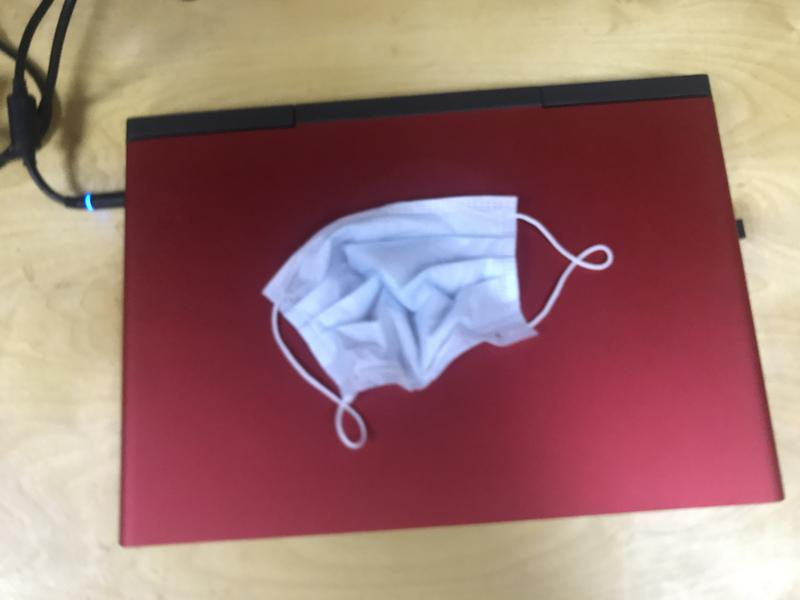medical_mask: (259, 196, 614, 450)
